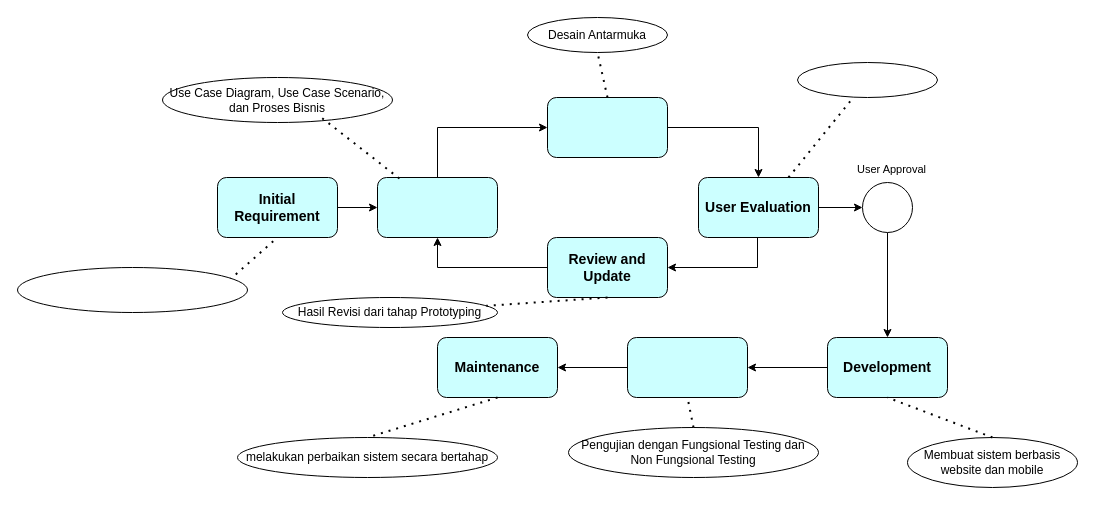
Image size: 1095x505. Some labels were removed from this diagram. The centre of each missing label's shape, as x and y in pixels:
"Design" goes at point 437,207.
"Prototyping" goes at point 607,127.
"Testing" goes at point 687,367.
"Umpan Balik User" goes at point 867,80.
"Wawancara, Kebutuhan Fungsional dan Kebutuhan Non Fungsional" goes at point 132,289.
